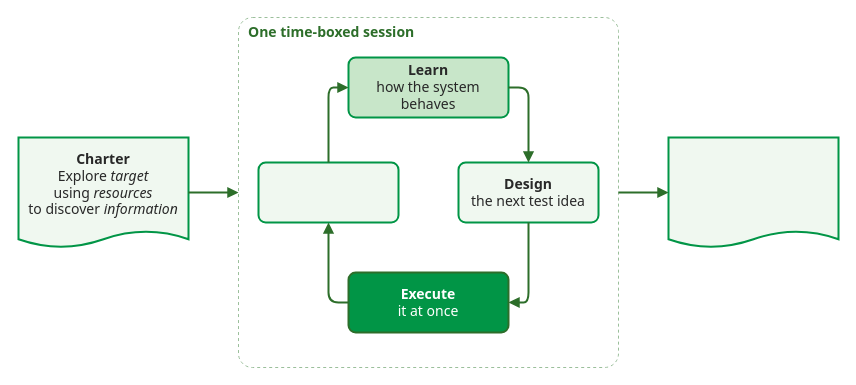
This 856x385 diagram has some shape labels left out. Each missing label, with the box of its shape:
Session report bugs with steps open questions areas covered: (667, 136, 839, 248)
Steer interpret the result: (257, 161, 399, 223)
